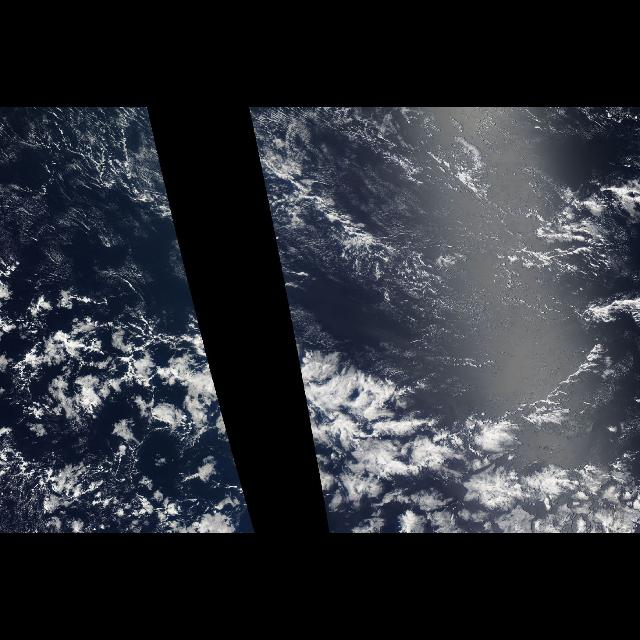Fish: (284, 286, 524, 506), (10, 286, 248, 506)
Flower: (283, 280, 639, 532), (9, 280, 257, 532)
Gravel: (248, 111, 640, 306), (9, 111, 197, 306)
Sugar: (248, 108, 546, 310), (3, 108, 197, 310)
